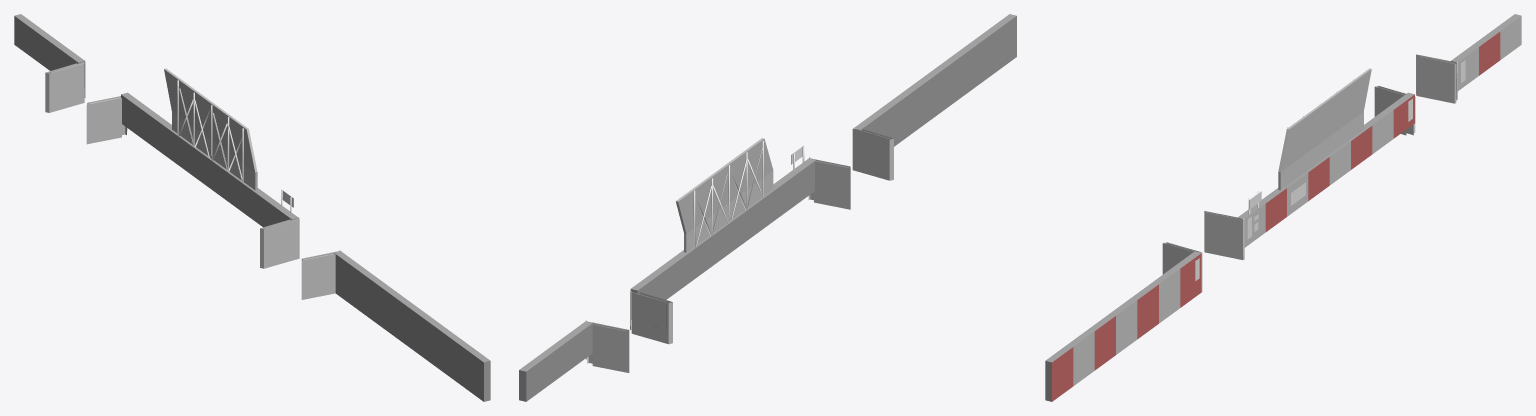
The model's file is garage_racetrack_opengates.dae.
3 renders of one model, left to right at view 1: azimuth 30°, elevation 25°; view 2: azimuth 150°, elevation 25°; view 3: azimuth 330°, elevation 25°, orthographic. The views are drawn at different scales.
Visible parts, largest first — view 1: garage_racetrack_a200, Colmesh-1, garage_racetrack_a500; view 2: garage_racetrack_a200, Colmesh-1, garage_racetrack_a500; view 3: garage_racetrack_a200, Colmesh-1, garage_racetrack_a500.
Boxes of the visible parts, x1=… form: garage_racetrack_a200: x1=14, y1=14, x2=490, y2=401; Colmesh-1: x1=45, y1=63, x2=339, y2=299; garage_racetrack_a500: x1=50, y1=60, x2=340, y2=260; garage_racetrack_a200: x1=519, y1=14, x2=1016, y2=401; Colmesh-1: x1=587, y1=128, x2=893, y2=372; garage_racetrack_a500: x1=585, y1=127, x2=890, y2=359; garage_racetrack_a200: x1=1045, y1=14, x2=1521, y2=401; Colmesh-1: x1=1162, y1=54, x2=1456, y2=292; garage_racetrack_a500: x1=1166, y1=55, x2=1465, y2=281.
Size of the model in its own units: 2.98 by 58.83 by 6.68.
